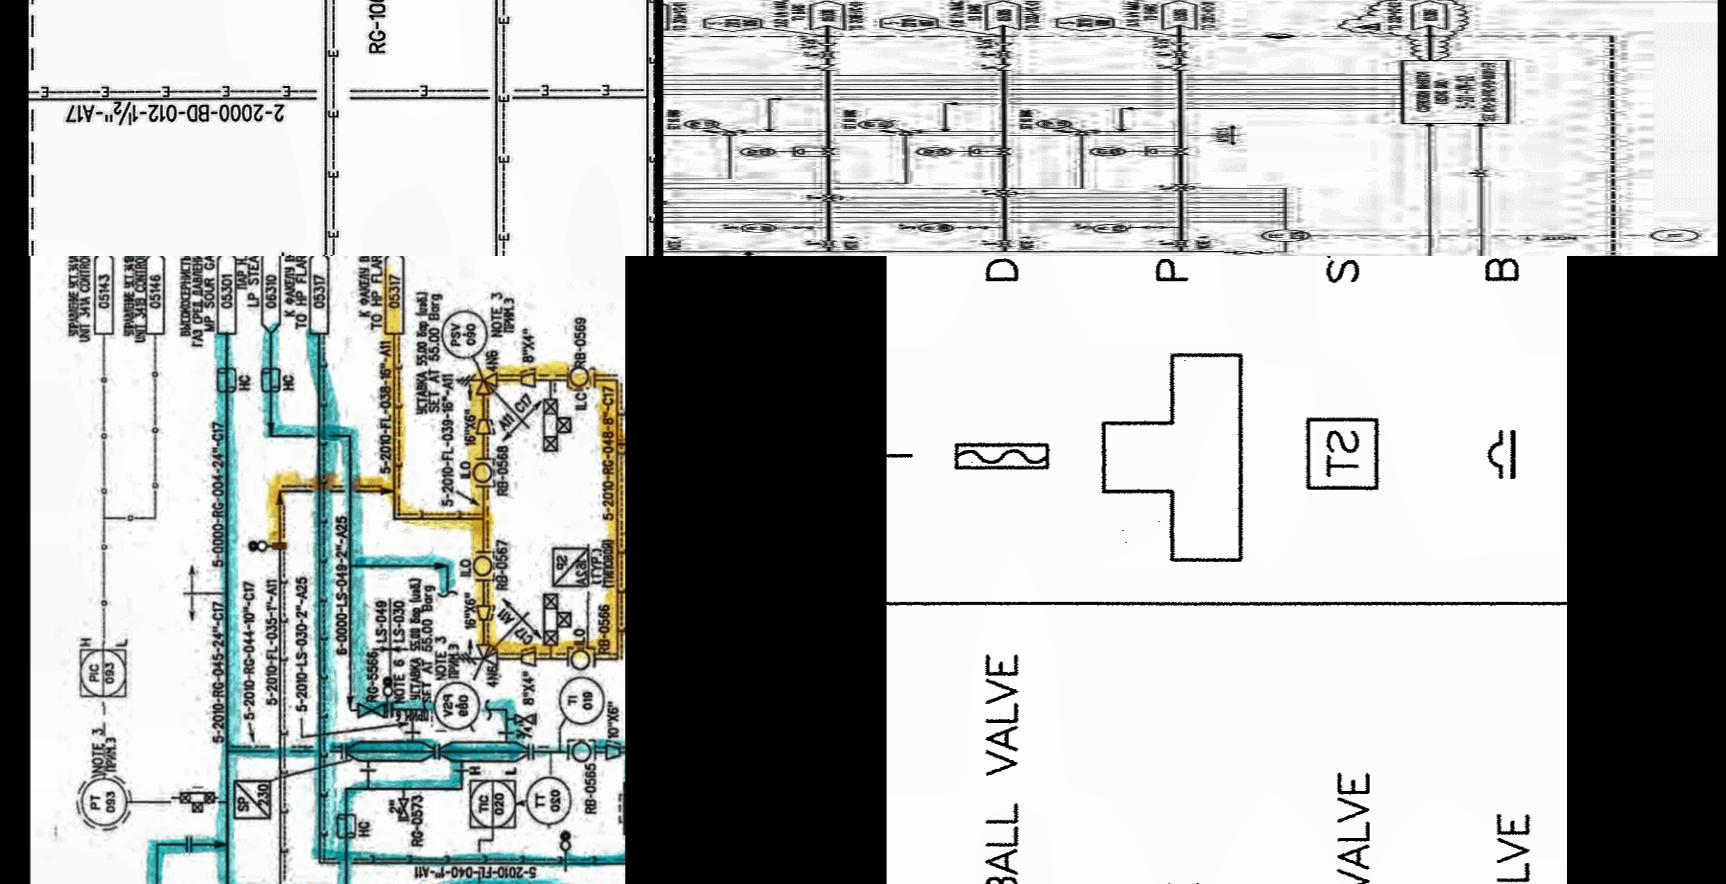2 WAY VALVE: (540, 334, 575, 392), (170, 530, 218, 555)
ANGLE RELIEF VALVE: (446, 380, 505, 413)
BURSTING DISK: (1482, 421, 1514, 485)
CONCENTRIC REDUCER: (517, 390, 540, 412), (600, 484, 621, 504), (475, 343, 493, 365)
DCS ACCESSIBLE: (71, 387, 131, 449), (463, 515, 519, 576)
DIAPHRAGM SEAL: (949, 434, 1057, 472)
DUPLEX RECEPTACLE: (331, 552, 359, 585)
FIELD INSTRUMENT: (68, 514, 135, 577), (525, 519, 575, 573), (555, 417, 605, 469), (431, 422, 480, 475), (990, 228, 1050, 242), (471, 295, 499, 324), (566, 479, 593, 509), (570, 390, 595, 415)
GATE VALVE: (351, 440, 391, 467), (395, 533, 413, 569), (508, 456, 535, 469)
NEEDLE VALVE: (806, 168, 842, 177)
PIG TEE: (1096, 345, 1248, 566)
PIPE CONNECTION FLAG: (751, 0, 796, 30)
REVISION TRIANGLE: (698, 23, 731, 30)
SPECIAL PIPING ITEM: (229, 516, 274, 567), (547, 288, 592, 335)
SPECTACLE BLIND OPEN: (247, 277, 290, 301)
STEM TRAP: (1298, 412, 1382, 495)
